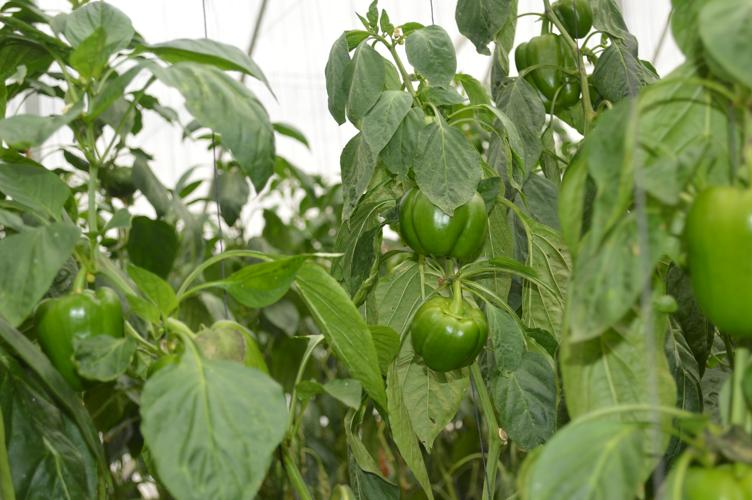BellPepper: (31, 285, 142, 384), (397, 171, 491, 266), (405, 289, 493, 371), (516, 24, 585, 113)
